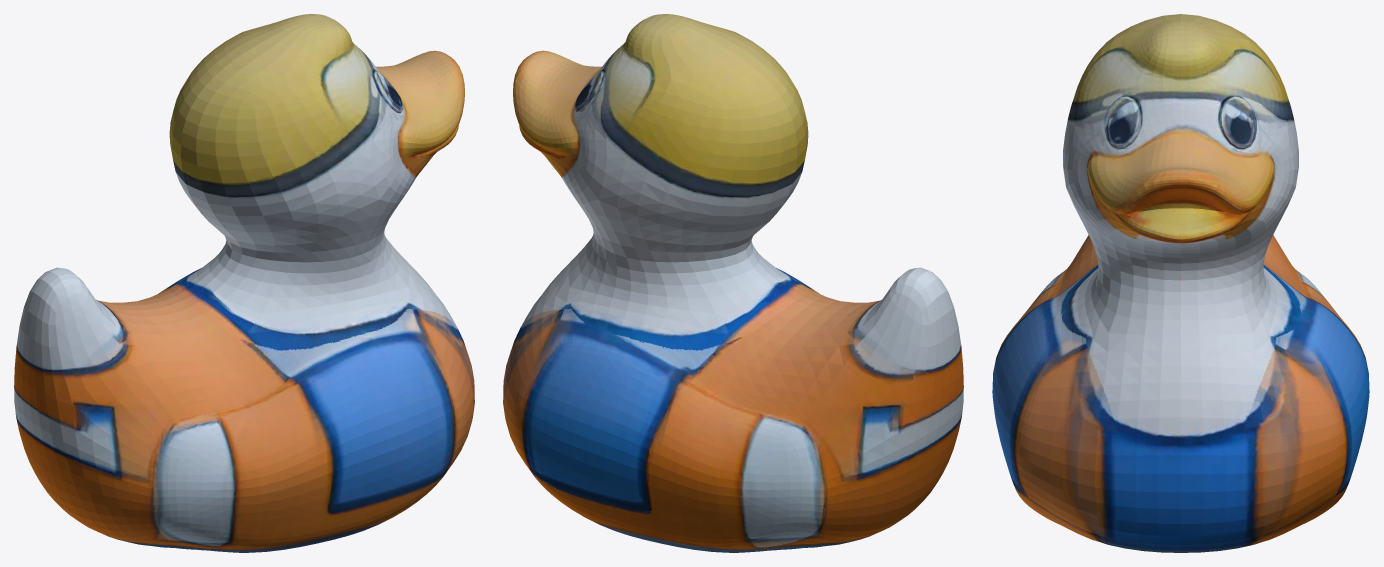
The model's file is consworkerV2.glb.
The picture shows the model from 3 angles, left to right: view 1: azimuth 30°, elevation 25°; view 2: azimuth 150°, elevation 25°; view 3: azimuth 270°, elevation 25°; orthographic projection. The views are drawn at different scales.
Visible parts, largest first — view 1: mvadapter_node_consworkerV2; view 2: mvadapter_node_consworkerV2; view 3: mvadapter_node_consworkerV2.
Part boxes in pixels (<box>): mvadapter_node_consworkerV2: <box>14,14,474,552</box>; mvadapter_node_consworkerV2: <box>503,14,963,552</box>; mvadapter_node_consworkerV2: <box>992,14,1369,552</box>.
Bounding box in the file's own units: 101 × 104 × 74.23.
Materials: 1 (1 with a texture image).
